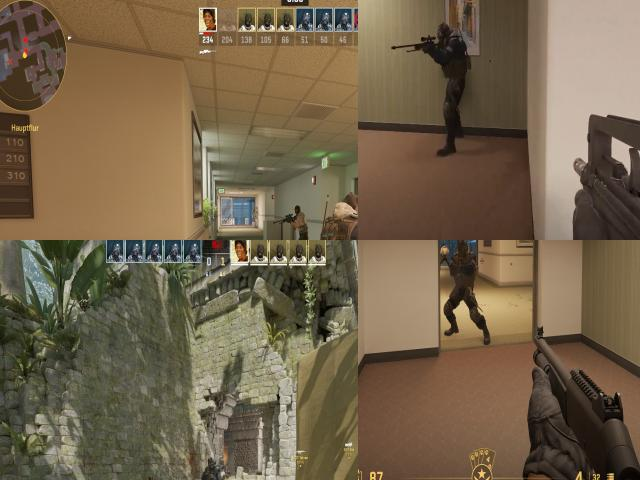CT: (436, 11, 465, 90), (454, 240, 472, 326), (197, 454, 227, 480)
CT-Head: (436, 20, 455, 49), (341, 192, 358, 215), (206, 457, 217, 472), (457, 240, 466, 255)
T: (292, 202, 311, 240), (441, 243, 448, 268)
T-Head: (293, 203, 304, 218), (443, 244, 445, 246)
